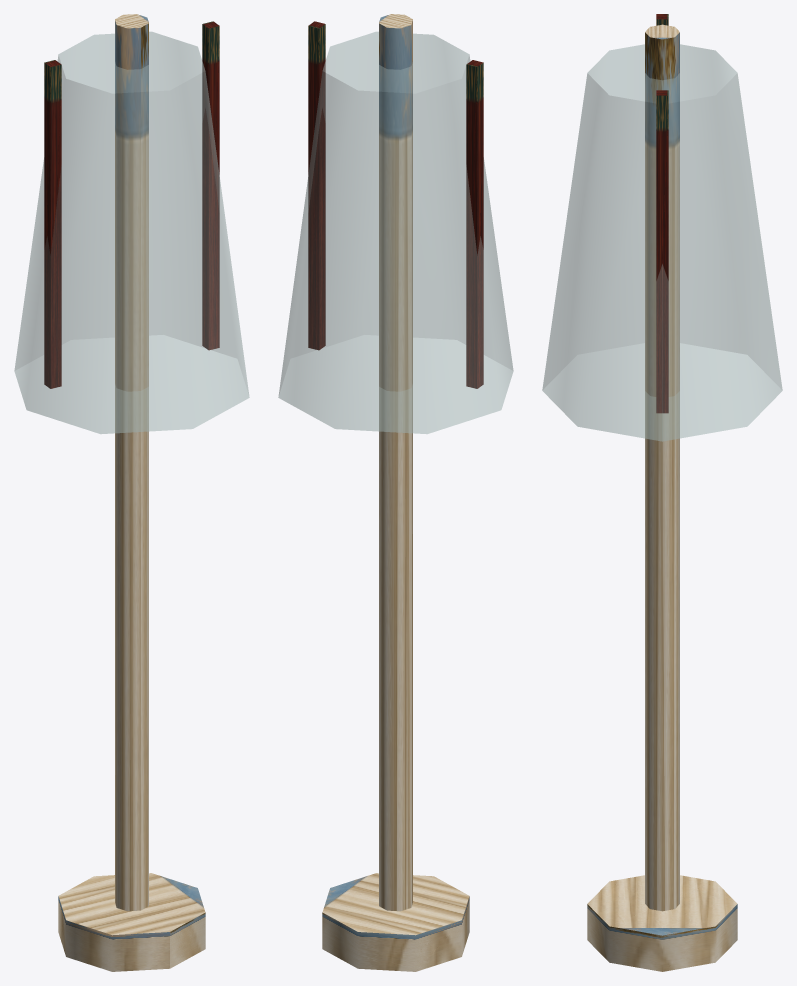
The model's file is garden-lantern.gltf.
The picture shows the model from 3 angles, left to right: view 1: azimuth 30°, elevation 25°; view 2: azimuth 150°, elevation 25°; view 3: azimuth 270°, elevation 25°; orthographic projection.
Parts seen in each view (by area): view 1: kit:0:furniture:glass:, kit:0:furniture:gold:, kit:0:furniture:bronze:; view 2: kit:0:furniture:glass:, kit:0:furniture:gold:, kit:0:furniture:bronze:; view 3: kit:0:furniture:glass:, kit:0:furniture:gold:, kit:0:furniture:bronze:.
Boxes of the visible parts, x1,y1,x2,y2 form: kit:0:furniture:glass:: (14,31,249,433); kit:0:furniture:gold:: (58,14,205,971); kit:0:furniture:bronze:: (44,21,219,388); kit:0:furniture:glass:: (278,31,513,433); kit:0:furniture:gold:: (322,14,469,971); kit:0:furniture:bronze:: (308,21,483,388); kit:0:furniture:glass:: (542,44,782,441); kit:0:furniture:gold:: (587,24,737,971); kit:0:furniture:bronze:: (656,14,668,413).
Size of the model in its own units: 0.48 by 2 by 0.48.
Materials: 3 (2 with a texture image).
